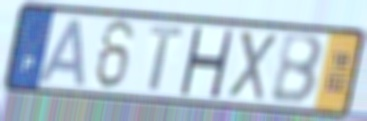6: (94, 18, 137, 93)
A: (36, 16, 88, 89)
B: (269, 33, 326, 108)
H: (176, 25, 236, 101)
T: (147, 25, 186, 94)
X: (225, 28, 279, 104)
